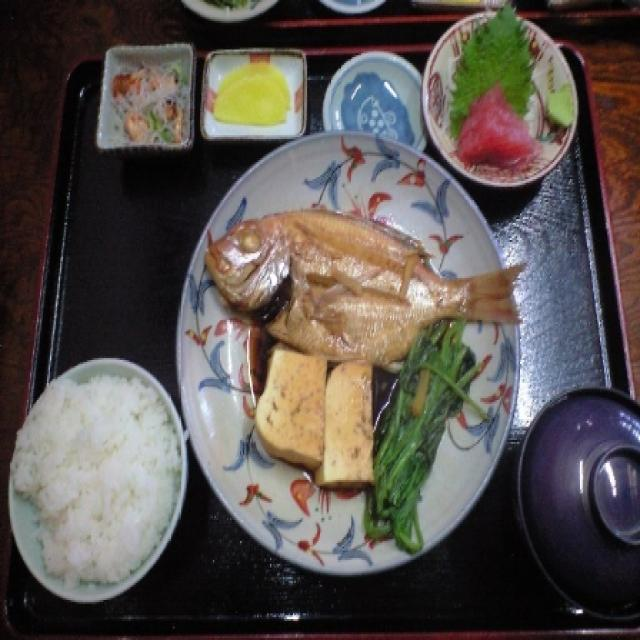熟制海鲜: (187, 196, 537, 374)
